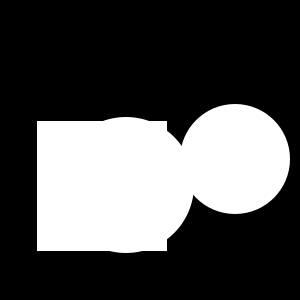circle: (37, 121, 167, 251)
rectangle: (58, 117, 194, 253), (180, 104, 290, 214)
